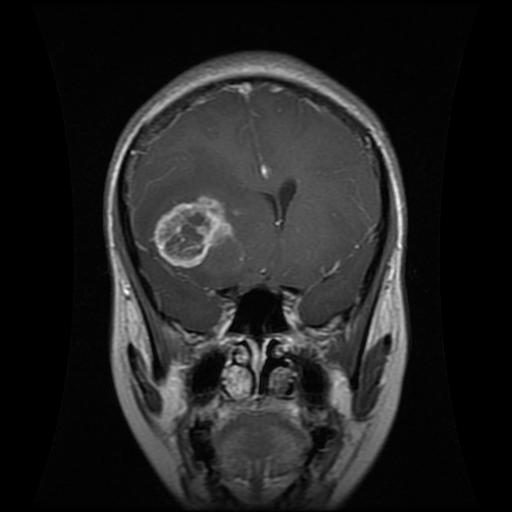Gliomia_tumour: (144, 187, 245, 272)
